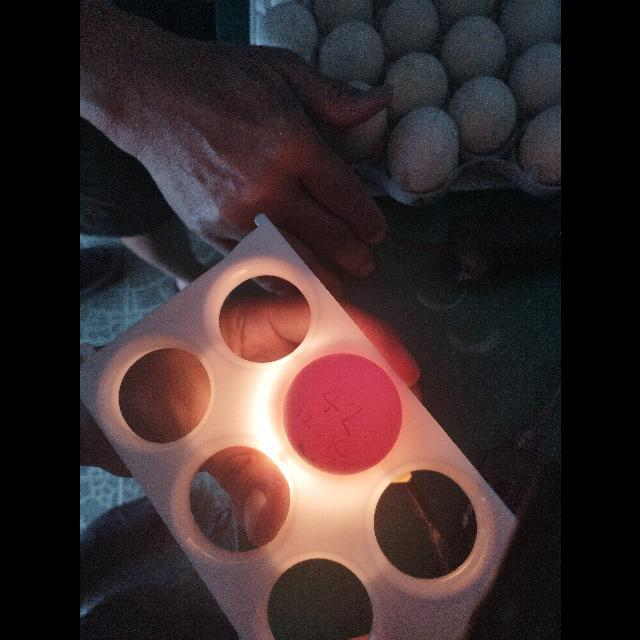Infertile: (281, 351, 403, 477)
